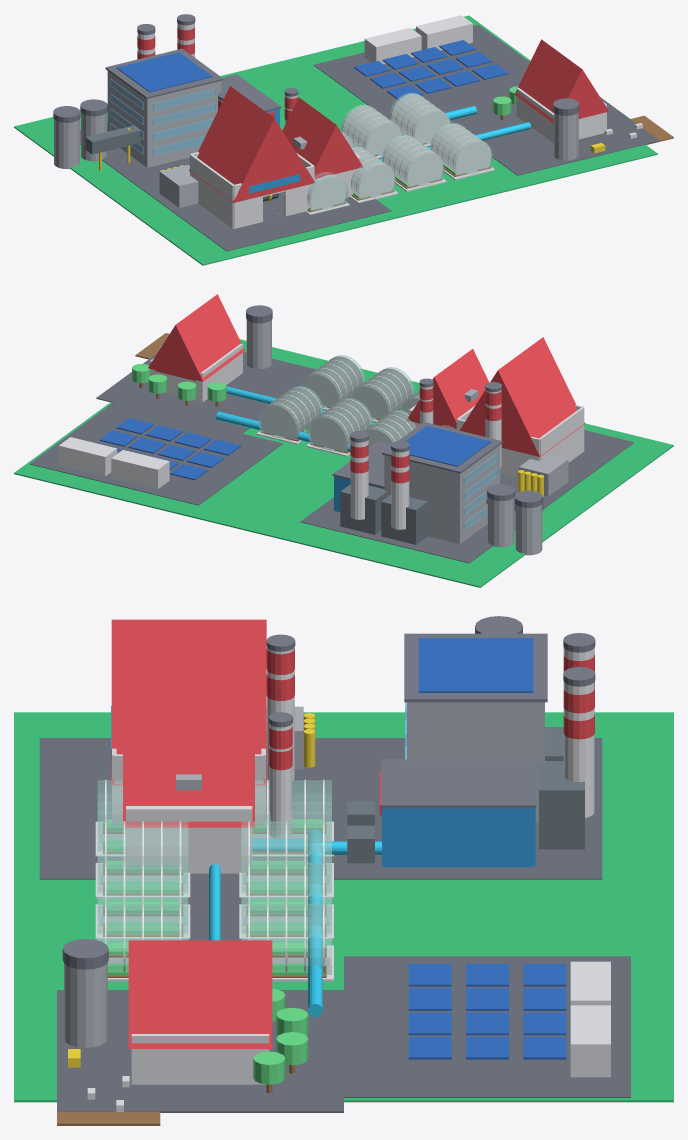
Rendered from agro_power_complex.glb.
3 views of the same model, one above another, from view 1: azimuth 30°, elevation 25°; view 2: azimuth 150°, elevation 25°; view 3: azimuth 270°, elevation 25° (orthographic). The views are drawn at different scales.
Visible parts, largest first — view 1: Agro_Master_Green_Base, Gas_Roof_Main, Coal_Boiler_Tower, Solar_BESS_Plaza, Gas_Plaza_Asphalt, Farm_Plaza_Asphalt, Farm_Kitchen_Roof, Gas_Roof_Boiler, Coal_Tower_Solar, GH2_Vault.002, GH2_Vault.003, Gas_Wall_Left (+34 smaller); view 2: Agro_Master_Green_Base, Solar_BESS_Plaza, Gas_Roof_Main, Coal_Boiler_Tower, Farm_Plaza_Asphalt, Farm_Kitchen_Roof, Gas_Roof_Boiler, Coal_Plaza_Asphalt, GH1_Vault.003, Gas_Plaza_Asphalt, Coal_Tower_Solar, GH1_Vault.002 (+25 smaller); view 3: Agro_Master_Green_Base, Solar_BESS_Plaza, Gas_Roof_Main, Farm_Plaza_Asphalt, Farm_Kitchen_Roof, Coal_Plaza_Asphalt, Gas_Roof_Boiler, Gas_Plaza_Asphalt, Coal_Turbine_Wall_R, Coal_Boiler_Tower, Coal_Turbine_Roof, Gas_Boiler_Unit (+46 smaller).
Boxes of the visible parts, x1,y1,x2,y2 form: Agro_Master_Green_Base: (14,15,657,265); Gas_Roof_Main: (189,86,315,202); Coal_Boiler_Tower: (107,71,221,167); Solar_BESS_Plaza: (313,24,529,119); Gas_Plaza_Asphalt: (148,190,391,251); Farm_Plaza_Asphalt: (450,97,659,175); Farm_Kitchen_Roof: (514,39,608,123); Gas_Roof_Boiler: (282,97,363,178); Coal_Tower_Solar: (117,52,212,92); GH2_Vault.002: (381,134,444,188); GH2_Vault.003: (430,122,493,176); Gas_Wall_Left: (190,154,233,228); Agro_Master_Green_Base: (14,339,673,587); Solar_BESS_Plaza: (30,402,282,505); Gas_Roof_Main: (459,337,585,456); Coal_Boiler_Tower: (384,445,500,543); Farm_Plaza_Asphalt: (96,352,316,433); Farm_Kitchen_Roof: (148,294,244,381); Gas_Roof_Boiler: (407,349,489,429); Coal_Plaza_Asphalt: (300,497,553,563); GH1_Vault.003: (258,386,323,441); Gas_Plaza_Asphalt: (500,430,634,501); Coal_Tower_Solar: (406,425,491,466); GH1_Vault.002: (308,398,372,453); Agro_Master_Green_Base: (14,712,673,1102); Solar_BESS_Plaza: (344,956,630,1097); Gas_Roof_Main: (111,619,266,785); Farm_Plaza_Asphalt: (57,990,343,1112); Farm_Kitchen_Roof: (128,940,272,1048); Coal_Plaza_Asphalt: (315,738,602,879); Gas_Roof_Boiler: (123,719,254,827); Gas_Plaza_Asphalt: (39,738,315,879); Coal_Turbine_Wall_R: (384,808,533,867); Coal_Boiler_Tower: (407,702,544,822); Coal_Turbine_Roof: (381,759,536,808); Gas_Boiler_Unit: (126,806,252,873).
Bounding box in the file's own units: 173 × 36.44 × 115.
